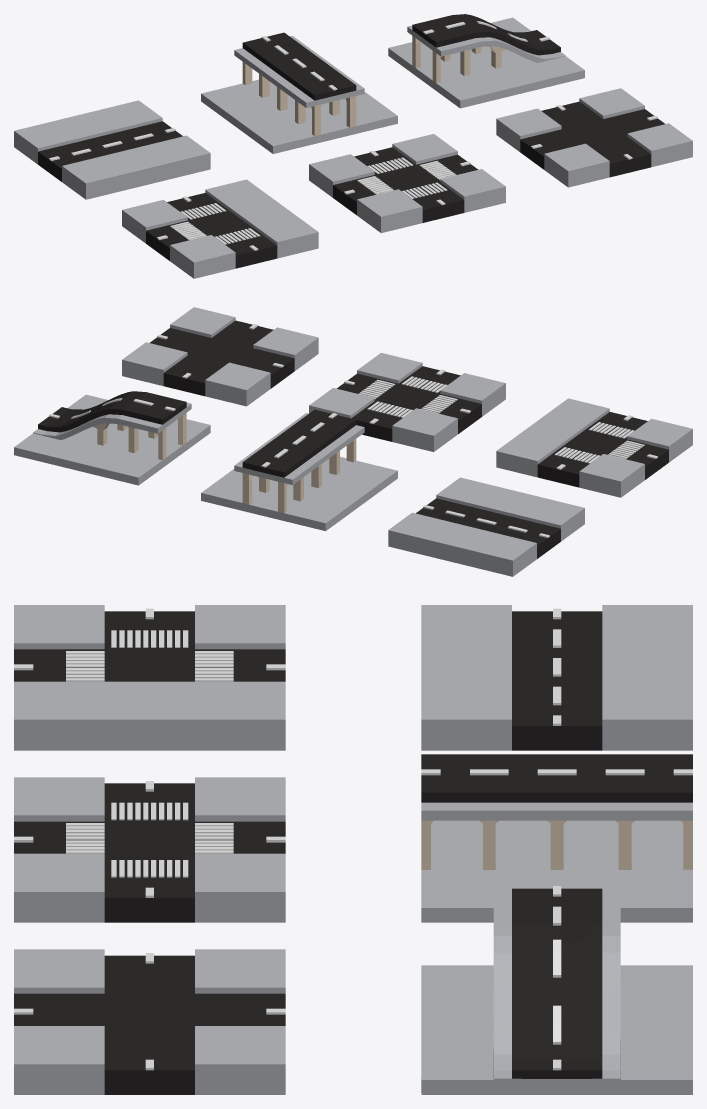
Rendered from AllRoads.fbx.
The picture shows the model from 3 angles, top to bottom: view 1: azimuth 30°, elevation 25°; view 2: azimuth 150°, elevation 25°; view 3: azimuth 270°, elevation 25°; orthographic projection. The views are drawn at different scales.
Parts seen in each view (by area): view 1: Street_Bridge, Street_Straight, Street_3Way, Street_4Way_2, Street_4Way, Street_Bridge_Ramp; view 2: Street_Bridge, Street_Straight, Street_3Way, Street_4Way_2, Street_Bridge_Ramp, Street_4Way; view 3: Street_Bridge_Ramp, Street_Bridge, Street_3Way, Street_Straight, Street_4Way, Street_4Way_2.
Part boxes in pixels (box(x1,y1,x2,y2)): Street_Bridge: box(201, 32, 397, 153); Street_Straight: box(14, 100, 210, 199); Street_3Way: box(122, 179, 318, 278); Street_4Way_2: box(496, 88, 692, 187); Street_4Way: box(309, 134, 505, 233); Street_Bridge_Ramp: box(388, 14, 584, 108); Street_Bridge: box(201, 409, 397, 531); Street_Straight: box(388, 477, 584, 576); Street_3Way: box(496, 398, 692, 497); Street_4Way_2: box(122, 307, 318, 406); Street_Bridge_Ramp: box(14, 391, 210, 485); Street_4Way: box(309, 352, 505, 451); Street_Bridge_Ramp: box(421, 886, 692, 1094); Street_Bridge: box(421, 754, 692, 922); Street_3Way: box(14, 605, 285, 750); Street_Straight: box(421, 605, 692, 750); Street_4Way: box(14, 777, 285, 922); Street_4Way_2: box(14, 949, 285, 1094).
Size of the model in its own units: 800 by 76.59 by 500.
